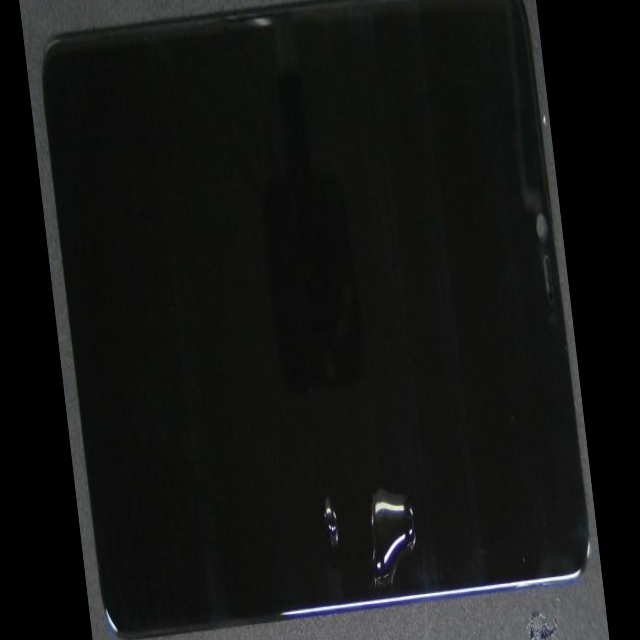oil: (213, 256, 590, 640), (171, 166, 463, 640)
